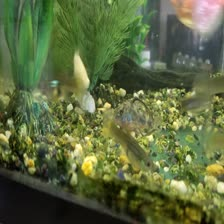Guppy: (98, 118, 159, 179), (68, 47, 91, 97)
Kiros: (109, 92, 161, 134)
